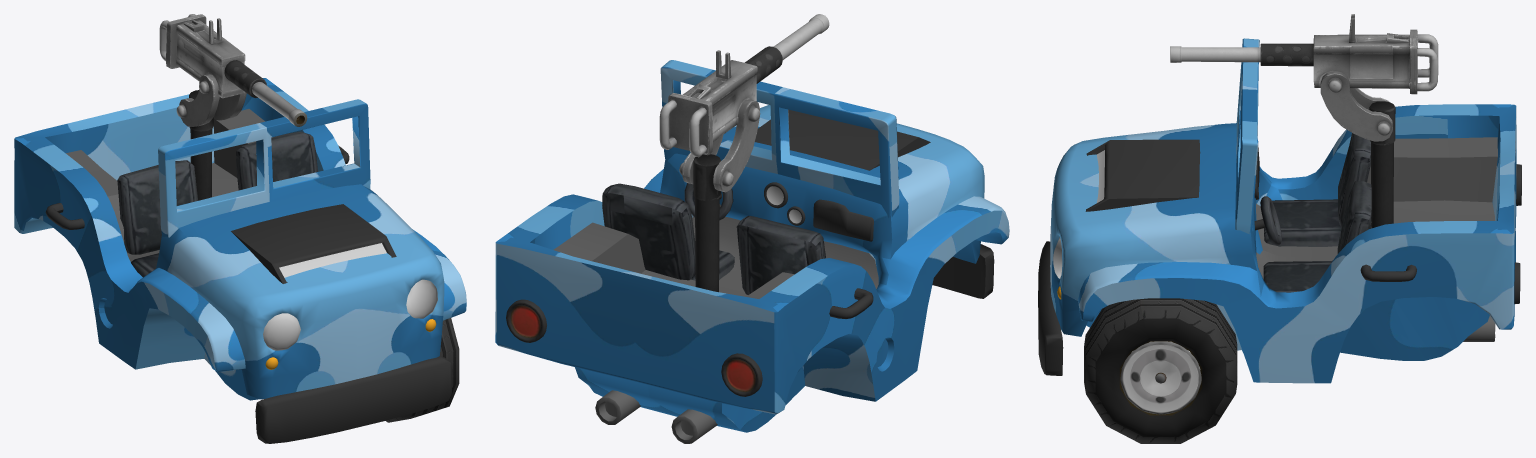
Rendered from Jeep.fbx.
The picture shows the model from 3 angles, left to right: view 1: azimuth 30°, elevation 25°; view 2: azimuth 150°, elevation 25°; view 3: azimuth 270°, elevation 25°; orthographic projection. The views are drawn at different scales.
Visible parts, largest first — view 1: Jeep, Body, Stand, Wheel_1, Gun; view 2: Jeep, Body, Gun, Stand; view 3: Jeep, Wheel_1, Body, Stand, Gun.
Boxes of the visible parts, x1=… form: Jeep: x1=14, y1=78, x2=466, y2=443; Body: x1=159, y1=14, x2=307, y2=126; Stand: x1=176, y1=74, x2=246, y2=126; Wheel_1: x1=386, y1=318, x2=459, y2=422; Gun: x1=189, y1=90, x2=213, y2=200; Jeep: x1=495, y1=60, x2=1009, y2=443; Body: x1=659, y1=14, x2=829, y2=157; Gun: x1=693, y1=154, x2=721, y2=292; Stand: x1=679, y1=99, x2=759, y2=192; Jeep: x1=1038, y1=38, x2=1521, y2=383; Wheel_1: x1=1084, y1=298, x2=1237, y2=443; Body: x1=1170, y1=14, x2=1438, y2=94; Stand: x1=1320, y1=71, x2=1392, y2=141; Gun: x1=1369, y1=101, x2=1395, y2=228.
Size of the model in its own units: 63.46 by 73.32 by 87.33.
2 materials, 2 textured.
